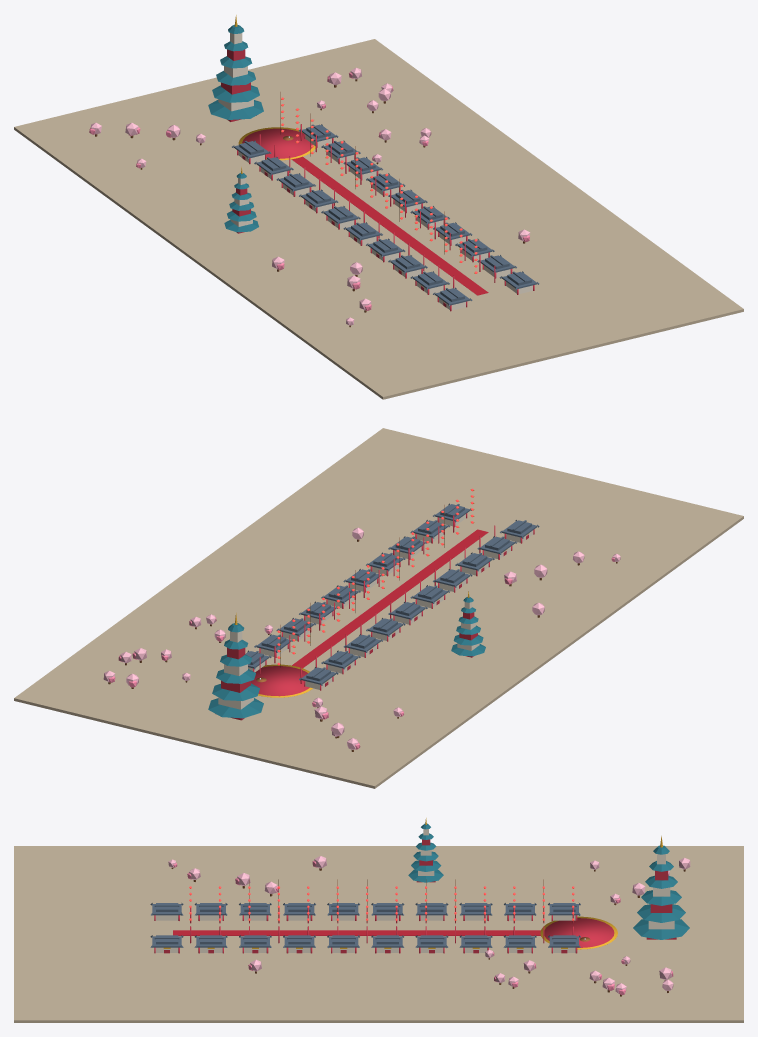
The picture shows the model from 3 angles, top to bottom: view 1: azimuth 30°, elevation 25°; view 2: azimuth 150°, elevation 25°; view 3: azimuth 270°, elevation 25°; orthographic projection.
Parts seen in each view (by area): view 1: Ground, Pagoda, Path, Plaza, Pagoda2; view 2: Ground, Pagoda, Path, Plaza, Pagoda2; view 3: Ground, Pagoda, Path, Plaza, Pagoda2, House_1_3, House_1_2, House_1_5, House_1_9, House_1_0, House_1_6, House_1_8 (+13 smaller).
Part boxes in pixels (x1=…): Ground: x1=14, y1=39, x2=743, y2=399; Pagoda: x1=208, y1=15, x2=263, y2=121; Path: x1=291, y1=156, x2=488, y2=295; Plaza: x1=242, y1=128, x2=312, y2=158; Pagoda2: x1=224, y1=167, x2=258, y2=233; Ground: x1=14, y1=428, x2=743, y2=788; Pagoda: x1=208, y1=613, x2=263, y2=720; Path: x1=292, y1=529, x2=488, y2=668; Plaza: x1=251, y1=666, x2=309, y2=696; Pagoda2: x1=451, y1=591, x2=485, y2=657; Ground: x1=14, y1=846, x2=743, y2=1022; Pagoda: x1=633, y1=836, x2=689, y2=939; Path: x1=173, y1=930, x2=540, y2=935; Plaza: x1=544, y1=918, x2=614, y2=947; Pagoda2: x1=408, y1=818, x2=443, y2=882; House_1_3: x1=283, y1=935, x2=315, y2=953; House_1_2: x1=239, y1=935, x2=271, y2=953; House_1_5: x1=371, y1=935, x2=404, y2=953; House_1_9: x1=548, y1=935, x2=580, y2=953; House_1_0: x1=150, y1=935, x2=183, y2=953; House_1_6: x1=415, y1=935, x2=448, y2=953; House_1_8: x1=503, y1=935, x2=536, y2=953.
Bounding box in the file's own units: 70 × 21.5 × 124.
